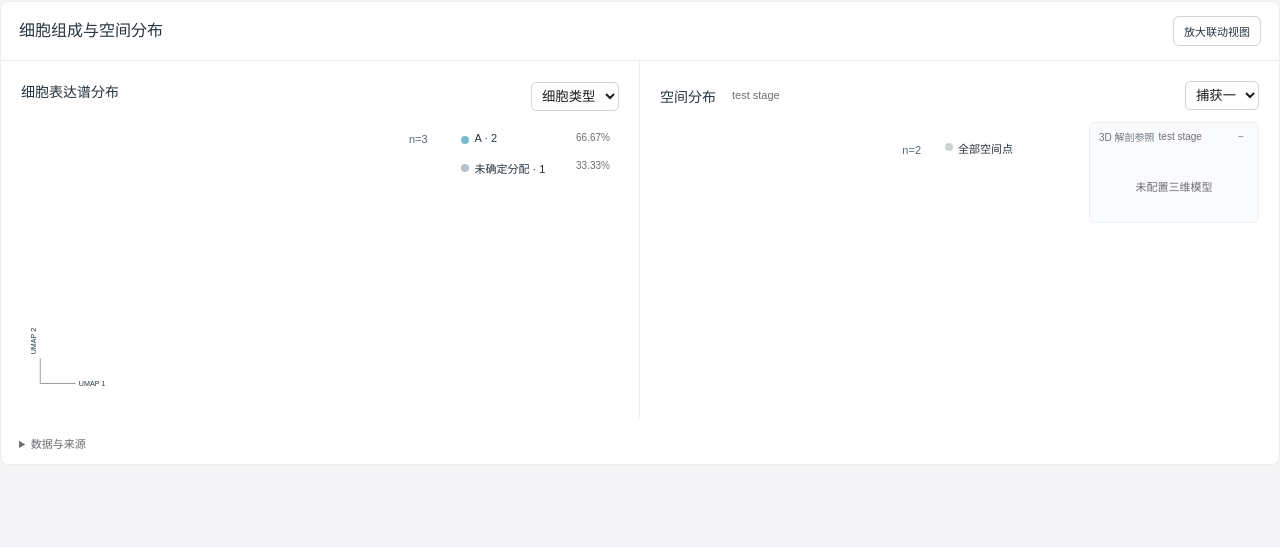
Test: mixed_cluster_retains_unmatched_count and zero differs from unmapped
Select "细胞簇" in the dropdown named "产品分组方式" at (575, 96), box [531,82,619,110]
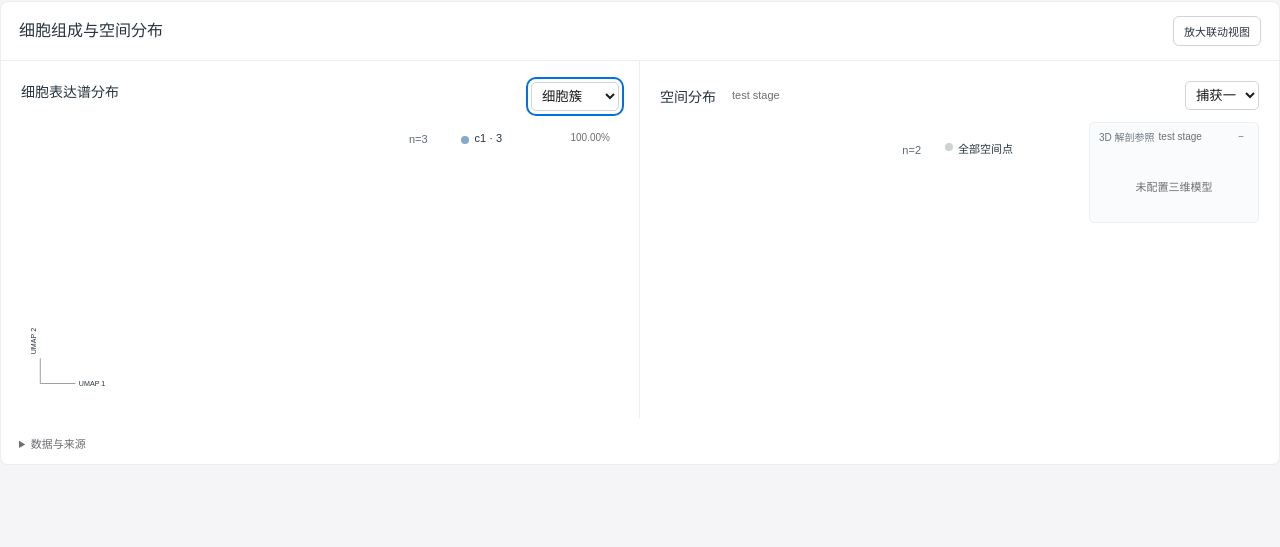
Click the button "c1 · 3 100.00%" at (535, 138), box [454,125,617,151]
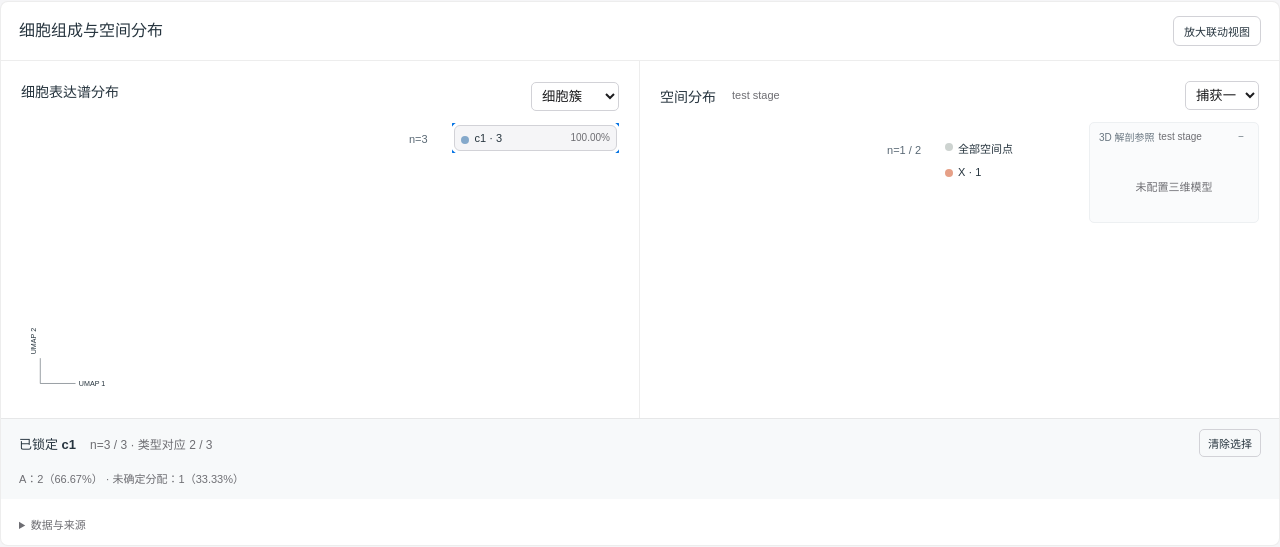
Expected: the element with test id "linked-selection" shows "类型对应 2 / 3", [1,418,1279,499]
Expected: the text "A：2（66.67%） · 未确定分配：1（33.33%）" is shown, [19,473,244,485]
Select "捕获二" in the dropdown named "空间捕获单元" at (1222, 96), box [1185,81,1259,110]
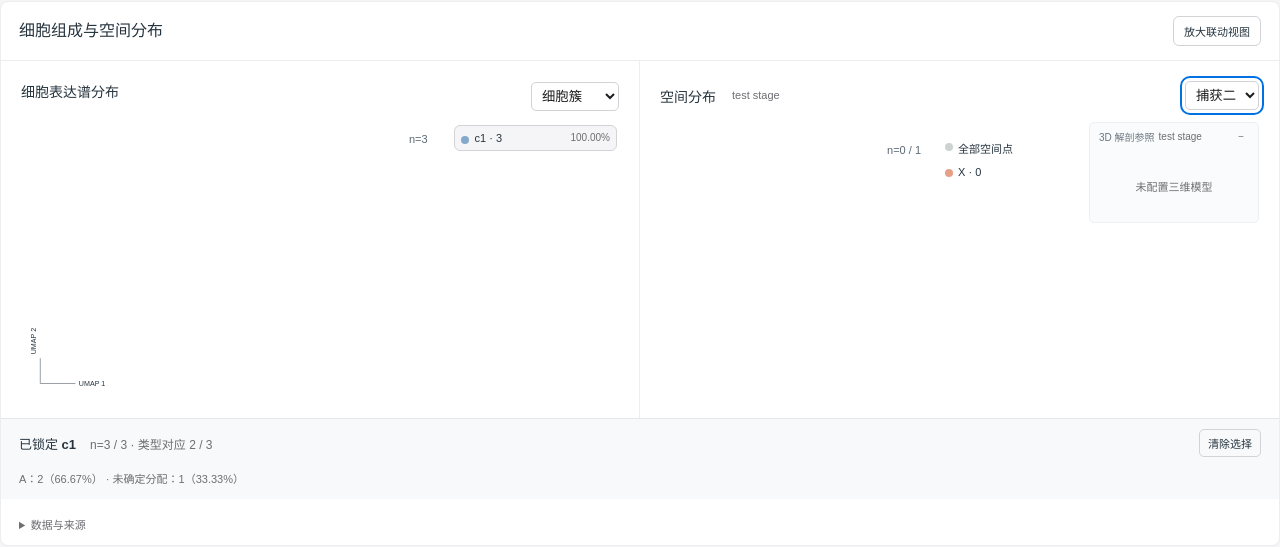
Expected: the text with test id "spatial-count" reads "n=0 / 1", [883,142,925,159]
